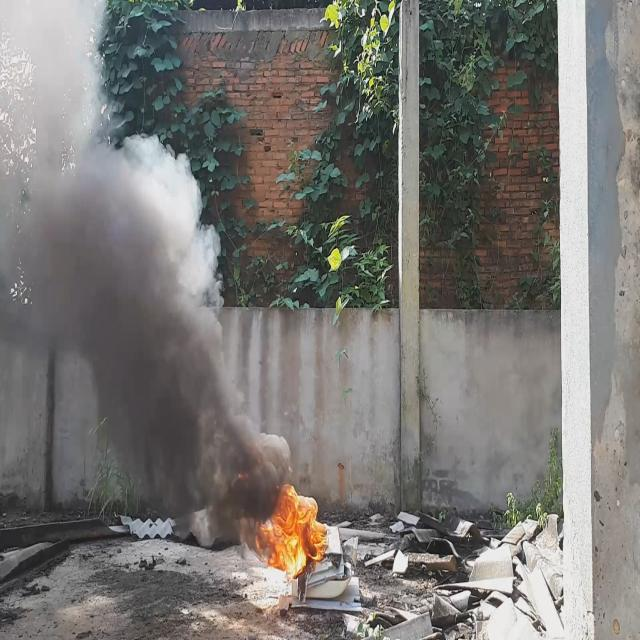Fire: (259, 474, 330, 582)
Smoke: (0, 0, 294, 533)
